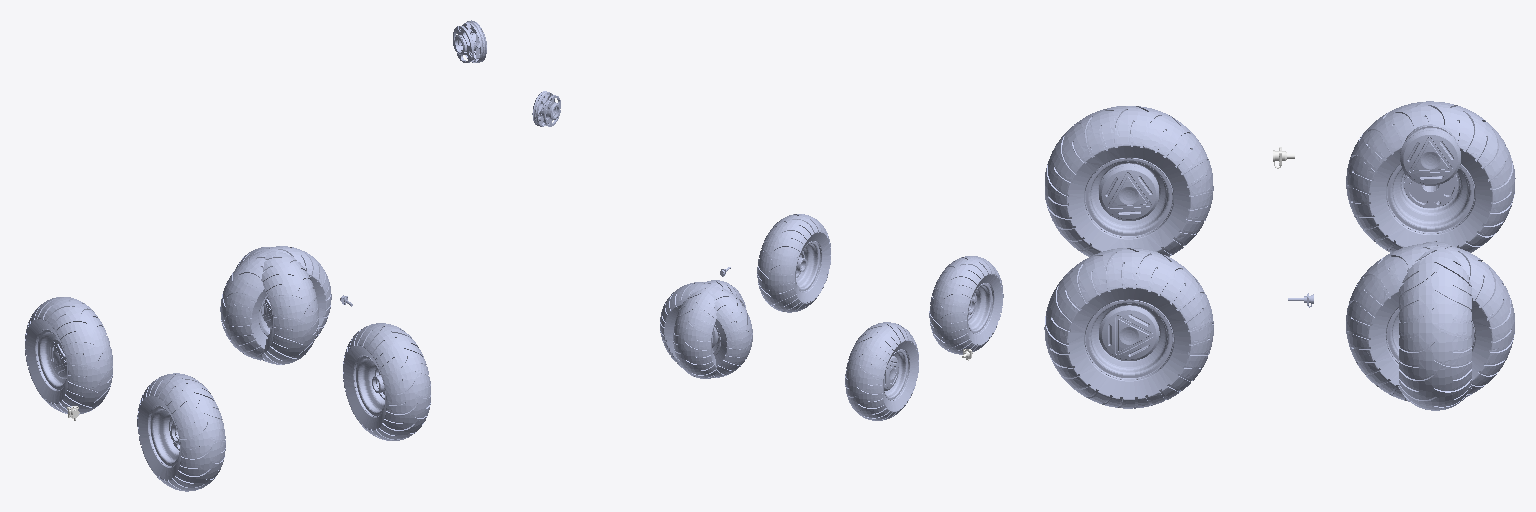
The robot description file, URDF, robot "hunter2_base":
<?xml version="1.0" encoding="utf-8"?>
<!-- This URDF was automatically created by SolidWorks to URDF Exporter! Originally created by [author] ([email redacted]) 
     Commit Version: 1.6.0-1-g15f4949  Build Version: 1.6.7594.29634
     For more information, please see http://wiki.ros.org/sw_urdf_exporter -->
<robot
  name="hunter2_base">
  <link
    name="base_link">
    <inertial>
      <origin
        xyz="0.0266989327622036 0.000409203500587652 -0.135901124750884"
        rpy="0 0 0" />
      <mass
        value="6.02945169536679" />
      <inertia
        ixx="0.0332370959804736"
        ixy="-1.013150489971E-06"
        ixz="-0.00188859201421112"
        iyy="0.111072002332437"
        iyz="-5.13308150598312E-07"
        izz="0.12660862809283" />
    </inertial>
    <visual>
      <origin
        xyz="0 0 0"
        rpy="0 0 0" />
      <geometry>
        <mesh
          filename="package://hunter2_base/meshes/base_link.STL" />
      </geometry>
      <material
        name="">
        <color
          rgba="0.792156862745098 0.819607843137255 0.933333333333333 1" />
      </material>
    </visual>
    <collision>
      <origin
        xyz="0 0 0"
        rpy="0 0 0" />
      <geometry>
        <mesh
          filename="package://hunter2_base/meshes/base_link.STL" />
      </geometry>
    </collision>
  </link>
  <link
    name="front_steer_left_link">
    <inertial>
      <origin
        xyz="-0.012614 1.8116E-05 0.0023132"
        rpy="0 0 0" />
      <mass
        value="7.8526" />
      <inertia
        ixx="0.063827"
        ixy="1.5154E-07"
        ixz="3.1921E-07"
        iyy="0.063827"
        iyz="2.9854E-08"
        izz="0.11091" />
    </inertial>
    <visual>
      <origin
        xyz="0 0 0"
        rpy="0 0 0" />
      <geometry>
        <mesh
          filename="package://hunter2_base/meshes/front_steer_left_link.STL" />
      </geometry>
      <material
        name="">
        <color
          rgba="0.79216 0.81961 0.93333 1" />
      </material>
    </visual>
    <collision>
      <origin
        xyz="0 0 0"
        rpy="0 0 0" />
      <geometry>
        <mesh
          filename="package://hunter2_base/meshes/front_steer_left_link.STL" />
      </geometry>
    </collision>
  </link>
  <joint
    name="front_steer_left_joint"
    type="revolute">
    <origin
      xyz="0.37142 0.29199 -0.1955"
      rpy="1.5708 0 0" />
    <parent
      link="base_link" />
    <child
      link="front_steer_left_link" />
    <axis
      xyz="0 0 1" />
    <limit
      lower="0"
      upper="0"
      effort="100"
      velocity="1" />
  </joint>
  <link
    name="front_left_wheel_link">
    <inertial>
      <origin
        xyz="-6.5774E-06 2.0242E-05 -0.0096386"
        rpy="0 0 0" />
      <mass
        value="7.7007" />
      <inertia
        ixx="0.063724"
        ixy="-3.8745E-08"
        ixz="2.2753E-07"
        iyy="0.063724"
        iyz="-4.88E-08"
        izz="0.11072" />
    </inertial>
    <visual>
      <origin
        xyz="0 0 0"
        rpy="0 0 0" />
      <geometry>
        <mesh
          filename="package://hunter2_base/meshes/front_left_wheel_link.STL" />
      </geometry>
      <material
        name="">
        <color
          rgba="0.79216 0.81961 0.93333 1" />
      </material>
    </visual>
    <collision>
      <origin
        xyz="0 0 0"
        rpy="0 0 0" />
      <geometry>
        <mesh
          filename="package://hunter2_base/meshes/front_left_wheel_link.STL" />
      </geometry>
    </collision>
  </link>
  <joint
    name="front_left_wheel_joint"
    type="continuous">
    <origin
      xyz="0 0 0"
      rpy="0 0 0" />
    <parent
      link="front_steer_left_link" />
    <child
      link="front_left_wheel_link" />
    <axis
      xyz="0 0 1" />
  </joint>
  <link
    name="front_steer_right_link">
    <inertial>
      <origin
        xyz="-8.9374E-08 1.0997E-07 0.0095958"
        rpy="0 0 0" />
      <mass
        value="7.696" />
      <inertia
        ixx="0.063704"
        ixy="-6.3892E-08"
        ixz="-2.0159E-08"
        iyy="0.063704"
        iyz="6.4721E-08"
        izz="0.11068" />
    </inertial>
    <visual>
      <origin
        xyz="0 0 0"
        rpy="0 0 0" />
      <geometry>
        <mesh
          filename="package://hunter2_base/meshes/front_steer_right_link.STL" />
      </geometry>
      <material
        name="">
        <color
          rgba="0.79216 0.81961 0.93333 1" />
      </material>
    </visual>
    <collision>
      <origin
        xyz="0 0 0"
        rpy="0 0 0" />
      <geometry>
        <mesh
          filename="package://hunter2_base/meshes/front_steer_right_link.STL" />
      </geometry>
    </collision>
  </link>
  <joint
    name="front_steer_right_joint"
    type="revolute">
    <origin
      xyz="0.37142 -0.29201 -0.1955"
      rpy="1.5708 0 0" />
    <parent
      link="base_link" />
    <child
      link="front_steer_right_link" />
    <axis
      xyz="0 0 -1" />
    <limit
      lower="0"
      upper="0"
      effort="100"
      velocity="1" />
  </joint>
  <link
    name="front_right_wheel_link">
    <inertial>
      <origin
        xyz="-9.1148E-08 1.1284E-07 0.0095049"
        rpy="0 0 0" />
      <mass
        value="7.5613" />
      <inertia
        ixx="0.063626"
        ixy="-6.4092E-08"
        ixz="-2.0164E-08"
        iyy="0.063626"
        iyz="6.4721E-08"
        izz="0.11054" />
    </inertial>
    <visual>
      <origin
        xyz="0 0 0"
        rpy="0 0 0" />
      <geometry>
        <mesh
          filename="package://hunter2_base/meshes/front_right_wheel_link.STL" />
      </geometry>
      <material
        name="">
        <color
          rgba="0.79216 0.81961 0.93333 1" />
      </material>
    </visual>
    <collision>
      <origin
        xyz="0 0 0"
        rpy="0 0 0" />
      <geometry>
        <mesh
          filename="package://hunter2_base/meshes/front_right_wheel_link.STL" />
      </geometry>
    </collision>
  </link>
  <joint
    name="front_right_wheel_joint"
    type="continuous">
    <origin
      xyz="0 0 0"
      rpy="0 0 0" />
    <parent
      link="front_steer_right_link" />
    <child
      link="front_right_wheel_link" />
    <axis
      xyz="0 0 -1" />
  </joint>
  <link
    name="left_rear_link">
    <inertial>
      <origin
        xyz="-8.826E-05 6.4342E-05 -0.0096491"
        rpy="0 0 0" />
      <mass
        value="7.6692" />
      <inertia
        ixx="0.063699"
        ixy="-2.542E-07"
        ixz="2.638E-08"
        iyy="0.063699"
        iyz="-5.9934E-08"
        izz="0.11067" />
    </inertial>
    <visual>
      <origin
        xyz="0 0 0"
        rpy="0 0 0" />
      <geometry>
        <mesh
          filename="package://hunter2_base/meshes/left_rear_link.STL" />
      </geometry>
      <material
        name="">
        <color
          rgba="0.79216 0.81961 0.93333 1" />
      </material>
    </visual>
    <collision>
      <origin
        xyz="0 0 0"
        rpy="0 0 0" />
      <geometry>
        <mesh
          filename="package://hunter2_base/meshes/left_rear_link.STL" />
      </geometry>
    </collision>
  </link>
  <joint
    name="left_rear_joint"
    type="continuous">
    <origin
      xyz="-0.28 0.29249 -0.19558"
      rpy="1.5708 0 0" />
    <parent
      link="base_link" />
    <child
      link="left_rear_link" />
    <axis
      xyz="0 0 1" />
    <limit
      effort="100"
      velocity="1" />
  </joint>
  <link
    name="right_rear_link">
    <inertial>
      <origin
        xyz="8.6344E-05 7.4488E-05 0.0097824"
        rpy="0 0 0" />
      <mass
        value="7.7133" />
      <inertia
        ixx="0.06373"
        ixy="2.5408E-07"
        ixz="2.6379E-08"
        iyy="0.06373"
        iyz="5.9941E-08"
        izz="0.11073" />
    </inertial>
    <visual>
      <origin
        xyz="0 0 0"
        rpy="0 0 0" />
      <geometry>
        <mesh
          filename="package://hunter2_base/meshes/right_rear_link.STL" />
      </geometry>
      <material
        name="">
        <color
          rgba="0.79216 0.81961 0.93333 1" />
      </material>
    </visual>
    <collision>
      <origin
        xyz="0 0 0"
        rpy="0 0 0" />
      <geometry>
        <mesh
          filename="package://hunter2_base/meshes/right_rear_link.STL" />
      </geometry>
    </collision>
  </link>
  <joint
    name="right_rear_joint"
    type="continuous">
    <origin
      xyz="-0.28018 -0.29251 -0.19558"
      rpy="1.5708 0.0026575 0" />
    <parent
      link="base_link" />
    <child
      link="right_rear_link" />
    <axis
      xyz="0 0 -1" />
    <limit
      effort="100"
      velocity="1" />
  </joint>
  <link
    name="front_steer_link">
    <inertial>
      <origin
        xyz="0.049836 8.1046E-15 0.017912"
        rpy="0 0 0" />
      <mass
        value="0.0049179" />
      <inertia
        ixx="1.6846E-07"
        ixy="7.6396E-23"
        ixz="-1.0974E-08"
        iyy="7.549E-07"
        iyz="-1.8957E-22"
        izz="7.334E-07" />
    </inertial>
    <visual>
      <origin
        xyz="0 0 0"
        rpy="0 0 0" />
      <geometry>
        <mesh
          filename="package://hunter2_base/meshes/front_steer_link.STL" />
      </geometry>
      <material
        name="">
        <color
          rgba="0.79216 0.81961 0.93333 1" />
      </material>
    </visual>
    <collision>
      <origin
        xyz="0 0 0"
        rpy="0 0 0" />
      <geometry>
        <mesh
          filename="package://hunter2_base/meshes/front_steer_link.STL" />
      </geometry>
    </collision>
  </link>
  <joint
    name="front_steer_joint"
    type="fixed">
    <origin
      xyz="0.44792 -1.1431E-05 -0.121"
      rpy="0 0 0" />
    <parent
      link="base_link" />
    <child
      link="front_steer_link" />
    <axis
      xyz="0 0 0" />
  </joint>
  <link
    name="rear_wheel_link">
    <inertial>
      <origin
        xyz="0 0 0"
        rpy="0 0 0" />
      <mass
        value="0" />
      <inertia
        ixx="0"
        ixy="0"
        ixz="0"
        iyy="0"
        iyz="0"
        izz="0" />
    </inertial>
    <visual>
      <origin
        xyz="0 0 0"
        rpy="0 0 0" />
      <geometry>
        <mesh
          filename="package://hunter2_base/meshes/rear_wheel_link.STL" />
      </geometry>
      <material
        name="">
        <color
          rgba="1 1 1 1" />
      </material>
    </visual>
    <collision>
      <origin
        xyz="0 0 0"
        rpy="0 0 0" />
      <geometry>
        <mesh
          filename="package://hunter2_base/meshes/rear_wheel_link.STL" />
      </geometry>
    </collision>
  </link>
  <joint
    name="rear_wheel_joint"
    type="fixed">
    <origin
      xyz="-0.42408 -1.1431E-05 -0.085581"
      rpy="0.0032313 0 0" />
    <parent
      link="base_link" />
    <child
      link="rear_wheel_link" />
    <axis
      xyz="0 0 0" />
  </joint>
</robot>

--- Facts derived from the render (not from the file) ---
3 views of the same robot in one strip: view 1: azimuth 30°, elevation 25°; view 2: azimuth 150°, elevation 25°; view 3: azimuth 270°, elevation 25° (orthographic).
Model hunter2_base with 9 links and 8 joints (2 revolute, 4 continuous, 2 fixed), rooted at base_link, posed all joints at 0.
Links seen in each view (by area): view 1: right_rear_link, front_steer_right_link, left_rear_link, front_steer_left_link, front_left_wheel_link; view 2: left_rear_link, front_steer_right_link, right_rear_link, front_steer_left_link, front_left_wheel_link; view 3: front_steer_right_link, right_rear_link, left_rear_link, front_steer_left_link, front_left_wheel_link.
Link boxes in pixels (box(x1,y1,x2,y2)): right_rear_link: box(137, 373, 225, 491); front_steer_right_link: box(343, 323, 430, 440); left_rear_link: box(25, 297, 112, 414); front_steer_left_link: box(236, 20, 486, 364); front_left_wheel_link: box(220, 246, 331, 360); left_rear_link: box(845, 322, 918, 420); front_steer_right_link: box(757, 214, 830, 312); right_rear_link: box(929, 256, 1003, 354); front_steer_left_link: box(532, 91, 746, 378); front_left_wheel_link: box(660, 282, 752, 377); front_steer_right_link: box(1044, 248, 1213, 408); right_rear_link: box(1045, 106, 1213, 256); left_rear_link: box(1346, 101, 1515, 252); front_steer_left_link: box(1346, 124, 1514, 401); front_left_wheel_link: box(1399, 241, 1471, 410).
Bounding box of the posed robot: 1.47 × 0.9127 × 0.8748 m (x, y, z).
8 mesh visuals loaded from 9 distinct referenced files (8 binary STL); not drawn: 1 (reference not matched to a file when rendering).